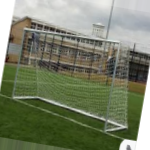goals: (10, 26, 129, 130)
